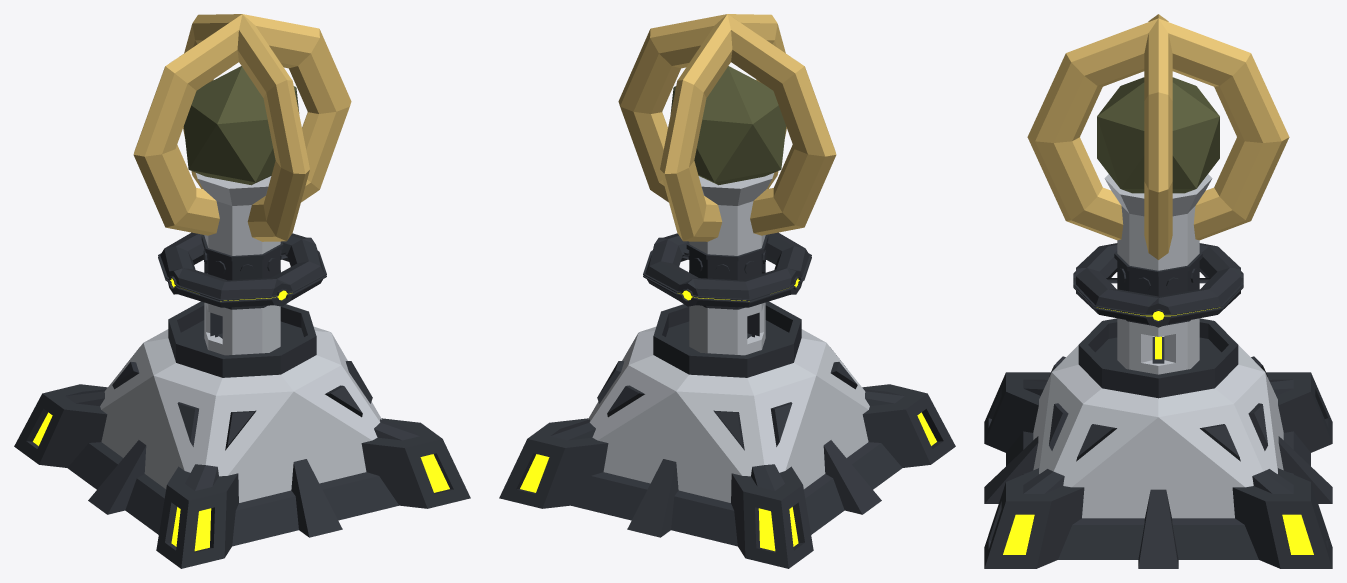
The model's file is Tesla2.glb.
3 renders of one model, left to right at view 1: azimuth 30°, elevation 25°; view 2: azimuth 150°, elevation 25°; view 3: azimuth 270°, elevation 25°, orthographic. The views are drawn at different scales.
Visible parts, largest first — view 1: Dark, Plane.001, Torus.001, Icosphere.001, Neon; view 2: Dark, Plane.001, Torus.001, Icosphere.001, Neon; view 3: Dark, Plane.001, Torus.001, Icosphere.001, Neon.
Part boxes in pixels (x1,y1,x2,y2): Dark: [14, 232, 470, 568]; Plane.001: [100, 173, 381, 502]; Torus.001: [133, 14, 351, 241]; Icosphere.001: [183, 66, 299, 185]; Neon: [33, 278, 449, 551]; Dark: [499, 232, 955, 568]; Plane.001: [588, 173, 869, 502]; Torus.001: [618, 14, 836, 241]; Icosphere.001: [670, 66, 786, 185]; Neon: [520, 278, 936, 551]; Dark: [984, 243, 1332, 568]; Plane.001: [1033, 174, 1283, 518]; Torus.001: [1027, 14, 1289, 259]; Icosphere.001: [1097, 77, 1219, 193]; Neon: [1003, 307, 1313, 554].
Size of the model in its own units: 2.28 by 3.45 by 2.28.
